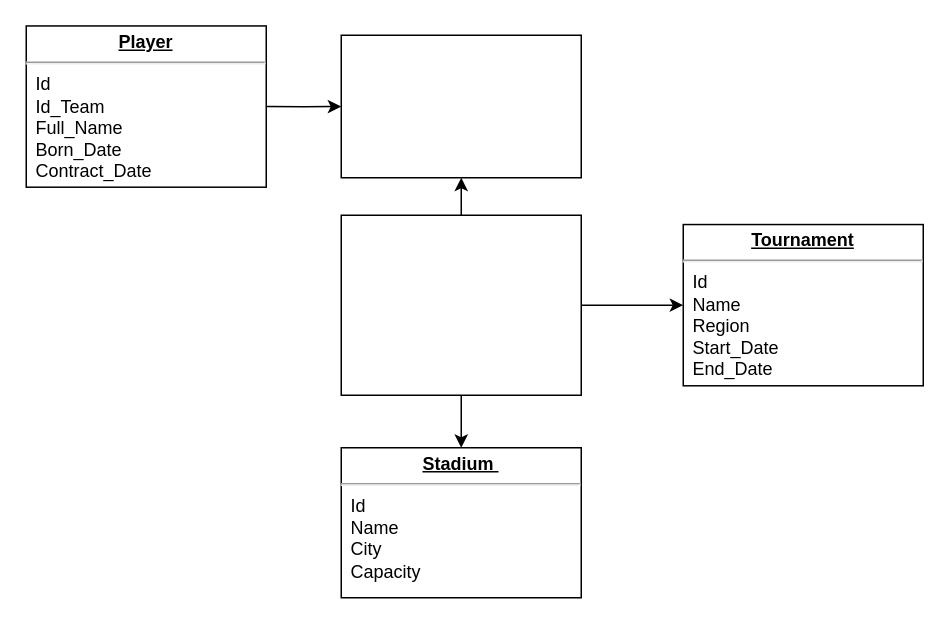
Image size: 950x626. Some labels were removed from this diagram. The box of each missing label's shape, as (x1, y1, x2, y2) in pixels:
Match Id Id_Tournament Id_Team Id_Stadium Start_Date End_Date: (340, 214, 581, 395)
Team Id Name City CountPlayers: (340, 34, 581, 178)
